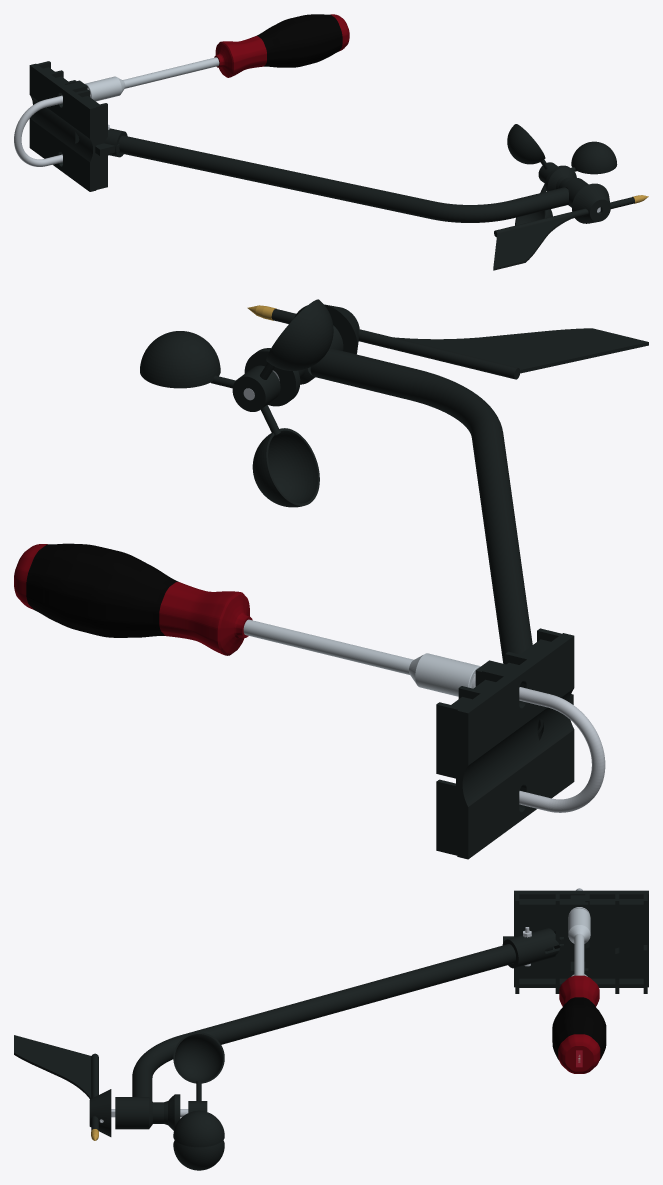
Rendered from wiha_34142_wind_right_fit.glb.
3 renders of one model, top to bottom at view 1: azimuth 30°, elevation 25°; view 2: azimuth 150°, elevation 25°; view 3: azimuth 270°, elevation 25°, orthographic. The views are drawn at different scales.
Visible parts, largest first — view 1: bent_hollow_arm, mast_saddle_and_sleeve, vane_with_d_bore, tool_black_soft_grip, three_cup_rotor, tool_red_molded_core, tool_steel_shaft_and_blind_socket, mast_u_bolt, stationary_hourglass_housing; view 2: mast_saddle_and_sleeve, bent_hollow_arm, three_cup_rotor, tool_black_soft_grip, vane_with_d_bore, tool_red_molded_core, tool_steel_shaft_and_blind_socket, mast_u_bolt, stationary_hourglass_housing; view 3: mast_saddle_and_sleeve, bent_hollow_arm, three_cup_rotor, vane_with_d_bore, tool_red_molded_core, tool_black_soft_grip, stationary_hourglass_housing, tool_steel_shaft_and_blind_socket.
Part boxes in pixels (x1=…): bent_hollow_arm: x1=118, y1=135, x2=568, y2=222; mast_saddle_and_sleeve: x1=29, y1=61, x2=127, y2=191; vane_with_d_bore: x1=493, y1=183, x2=634, y2=270; tool_black_soft_grip: x1=256, y1=14, x2=342, y2=67; three_cup_rotor: x1=507, y1=124, x2=617, y2=225; tool_red_molded_core: x1=214, y1=14, x2=349, y2=77; tool_steel_shaft_and_blind_socket: x1=85, y1=57, x2=219, y2=101; mast_u_bolt: x1=14, y1=95, x2=62, y2=166; stationary_hourglass_housing: x1=545, y1=165, x2=588, y2=207; mast_saddle_and_sleeve: x1=436, y1=628, x2=574, y2=859; bent_hollow_arm: x1=310, y1=348, x2=543, y2=733; three_cup_rotor: x1=140, y1=299, x2=333, y2=507; tool_black_soft_grip: x1=26, y1=543, x2=178, y2=637; vane_with_d_bore: x1=271, y1=304, x2=648, y2=379; tool_red_molded_core: x1=14, y1=544, x2=252, y2=655; tool_steel_shaft_and_blind_socket: x1=243, y1=619, x2=480, y2=696; mast_u_bolt: x1=519, y1=687, x2=605, y2=812; stationary_hourglass_housing: x1=244, y1=325, x2=343, y2=406; mast_saddle_and_sleeve: x1=502, y1=890, x2=648, y2=993; bent_hollow_arm: x1=132, y1=944, x2=553, y2=1100; three_cup_rotor: x1=173, y1=1032, x2=224, y2=1170; vane_with_d_bore: x1=14, y1=1035, x2=111, y2=1136; tool_red_molded_core: x1=558, y1=975, x2=600, y2=1073; tool_black_soft_grip: x1=552, y1=997, x2=606, y2=1060; stationary_hourglass_housing: x1=115, y1=1094, x2=180, y2=1130; tool_steel_shaft_and_blind_socket: x1=568, y1=908, x2=590, y2=975.
Bounding box in the file's own units: 0.4124 × 0.1065 × 0.47.
8 materials, 1 textured.
